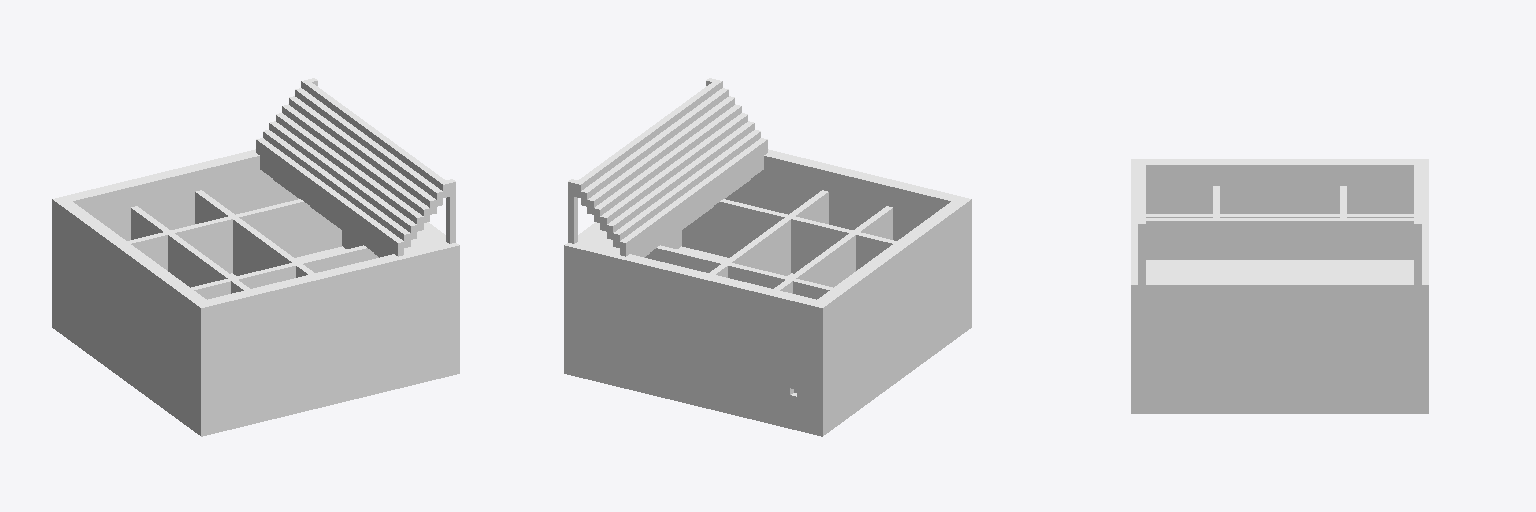
The model's file is storage.obj.
3 views of the same model, side by side, from view 1: azimuth 30°, elevation 25°; view 2: azimuth 150°, elevation 25°; view 3: azimuth 270°, elevation 25° (orthographic).
Parts seen in each view (by area): view 1: object 1; view 2: object 1; view 3: object 1.
Boxes of the visible parts, box(x1,y1,x2,y2) form: object 1: box(52, 78, 459, 436); object 1: box(564, 78, 971, 436); object 1: box(1131, 159, 1428, 413).
Size of the model in its own units: 4 by 2.8 by 4.